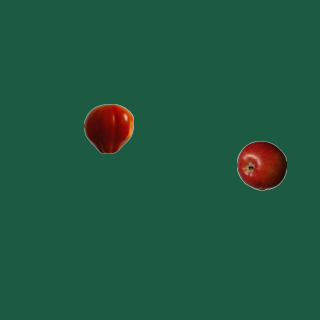Apple Braeburn: (236, 140, 286, 190)
Tomato 1: (83, 103, 133, 153)
